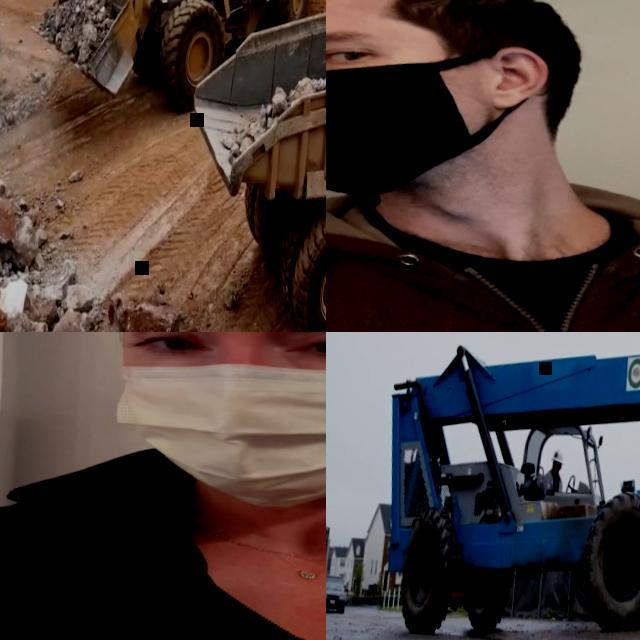Helmet: (551, 444, 570, 472)
Robbery: (1, 327, 332, 640), (328, 0, 640, 326), (540, 446, 580, 506)
